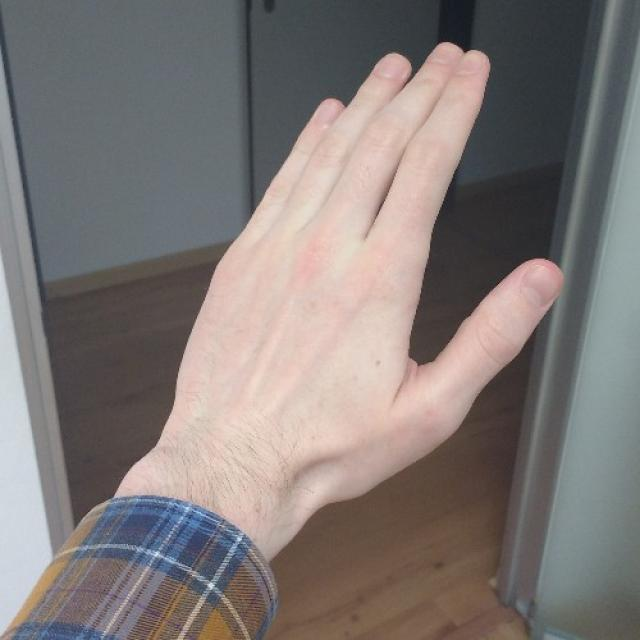paper: (148, 40, 564, 525)
